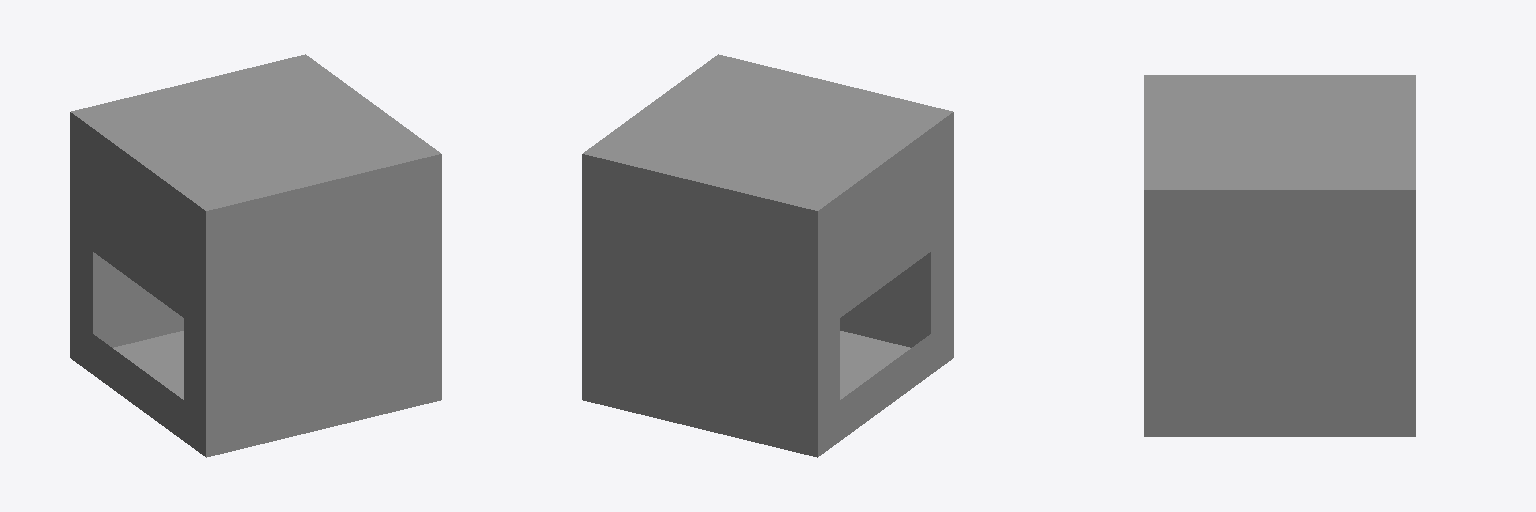
File: ShooterBox.obj
3 renders of one model, left to right at view 1: azimuth 30°, elevation 25°; view 2: azimuth 150°, elevation 25°; view 3: azimuth 270°, elevation 25°, orthographic.
Parts seen in each view (by area): view 1: Cube; view 2: Cube; view 3: Cube.
Part boxes in pixels (bbox=[...]): Cube: bbox=[70, 54, 441, 457]; Cube: bbox=[582, 54, 953, 457]; Cube: bbox=[1144, 75, 1415, 436].
Size of the model in its own units: 2 by 2 by 2.